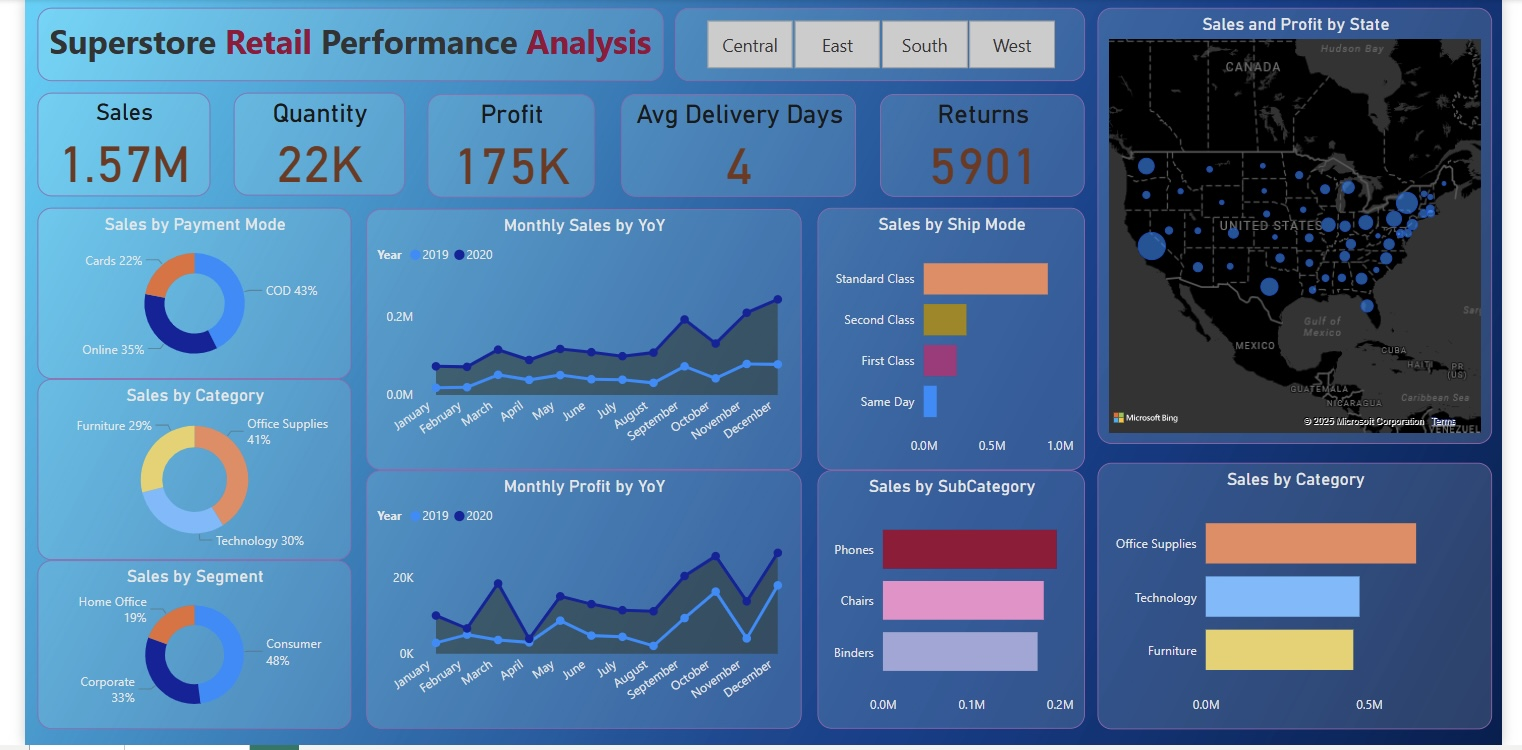

This screenshot's page, from the dashboard's own definition file:
{"tool":"powerbi","page":{"name":"Dashboard","canvas":[1449,732],"ordinal":1},"visuals":[{"type":"clusteredBarChart","title":"Sales by Ship Mode","fields":{"Category":["Sheet1.Ship Mode"],"Y":["Sum(Sheet1.Sales)"]},"box":[777.6,204.8,262.5,257.6],"z":0},{"type":"clusteredBarChart","title":"Sales by SubCategory","fields":{"Category":["Sheet1.Sub-Category"],"Y":["Sum(Sheet1.Sales)"]},"box":[777.6,462.4,262.5,253.9],"z":1},{"type":"clusteredBarChart","title":"Sales by Category","fields":{"Category":["Sheet1.Category"],"Y":["Sum(Sheet1.Sales)"]},"box":[1052.4,455,387.6,261.3],"z":2},{"type":"stackedAreaChart","title":"Monthly Sales by YoY","fields":{"Category":["Sheet1.Order Date.Variation.Date Hierarchy.Month","Sheet1.Order Date.Variation.Date Hierarchy.Day"],"Y":["Sum(Sheet1.Sales)"],"Series":["Sheet1.Order Date.Variation.Date Hierarchy.Year"]},"box":[334.8,206.1,426.8,256.3],"z":3},{"type":"stackedAreaChart","title":"Monthly Profit by YoY","fields":{"Category":["Sheet1.Order Date.Variation.Date Hierarchy.Month","Sheet1.Order Date.Variation.Date Hierarchy.Day"],"Series":["Sheet1.Order Date.Variation.Date Hierarchy.Year"],"Y":["Sum(Sheet1.Profit)"]},"box":[334.8,462.4,426.8,253.9],"z":6},{"type":"map","title":"Sales and Profit by State","fields":{"Category":["Sheet1.State"],"Size":["Sum(Sheet1.Sales)"]},"box":[1052.4,8.6,387.6,428.1],"z":7},{"type":"donutChart","title":"Sales by Segment","fields":{"Category":["Sheet1.Segment"],"Y":["Sum(Sheet1.Sales)"]},"box":[12.3,550.7,307.9,165.6],"z":8},{"type":"donutChart","title":"Sales by Payment Mode","fields":{"Y":["Sum(Sheet1.Sales)"],"Category":["Sheet1.Payment Mode"]},"box":[12.3,204.8,307.9,168],"z":9},{"type":"donutChart","title":"Sales by Category","fields":{"Y":["Sum(Sheet1.Sales)"],"Category":["Sheet1.Category"]},"box":[12.3,372.9,307.9,177.8],"z":10},{"type":"slicer","fields":{"Values":["Sheet1.Region"]},"box":[637.8,8.6,402.3,72.4],"z":11},{"type":"textbox","box":[12.3,8.6,614.5,72.4],"z":12},{"type":"card","title":"Sales","fields":{"Values":["Sum(Sheet1.Sales)"]},"box":[12.3,92,169.3,101.8],"z":13},{"type":"card","title":"Quantity","fields":{"Values":["Sum(Sheet1.Quantity)"]},"box":[204.8,92,168,100.6],"z":14},{"type":"card","title":"Profit","fields":{"Values":["Sum(Sheet1.Profit)"]},"box":[394.9,93.2,164.4,101.8],"z":15},{"type":"card","title":"Avg Delivery Days","fields":{"Values":["Avg(Sheet1.Avg)"]},"box":[585.1,93.2,230.6,100.6],"z":16},{"type":"card","title":"Returns","fields":{"Values":["CountNonNull(Sheet1.Returns)"]},"box":[839,93.2,201.2,100.6],"z":17}]}

Visuals, with their boxes in screenshot pixels (x1, y1, x2, y2), scaled from the page's 1449x732 canvas onto the 1522x750 screenshot:
"Sales by Ship Mode" clusteredBarChart: [817, 210, 1092, 474]
"Sales by SubCategory" clusteredBarChart: [817, 474, 1092, 734]
"Sales by Category" clusteredBarChart: [1105, 466, 1513, 734]
"Monthly Sales by YoY" stackedAreaChart: [352, 211, 800, 474]
"Monthly Profit by YoY" stackedAreaChart: [352, 474, 800, 734]
"Sales and Profit by State" map: [1105, 9, 1513, 447]
"Sales by Segment" donutChart: [13, 564, 336, 734]
"Sales by Payment Mode" donutChart: [13, 210, 336, 382]
"Sales by Category" donutChart: [13, 382, 336, 564]
slicer - Sheet1.Region: [670, 9, 1092, 83]
textbox: [13, 9, 658, 83]
"Sales" card: [13, 94, 191, 199]
"Quantity" card: [215, 94, 392, 197]
"Profit" card: [415, 95, 587, 200]
"Avg Delivery Days" card: [615, 95, 857, 199]
"Returns" card: [881, 95, 1093, 199]
